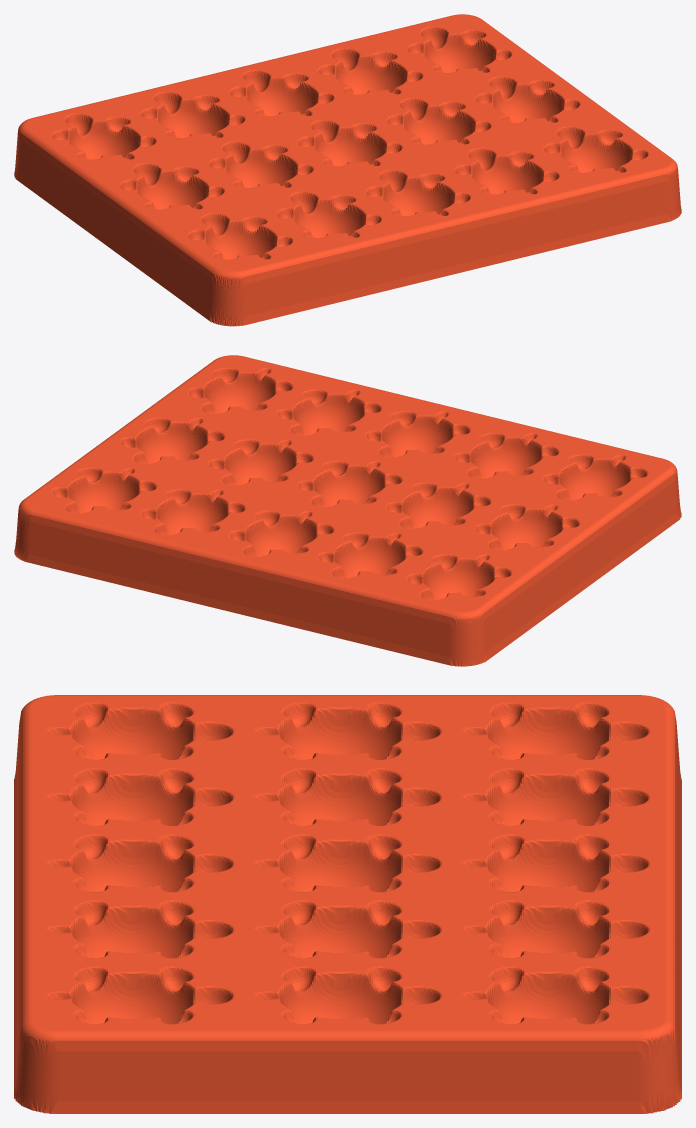
The model's file is mold.glb.
The picture shows the model from 3 angles, top to bottom: view 1: azimuth 30°, elevation 25°; view 2: azimuth 150°, elevation 25°; view 3: azimuth 270°, elevation 25°; orthographic projection. The views are drawn at different scales.
Visible parts, largest first — view 1: geometry_0; view 2: geometry_0; view 3: geometry_0.
Boxes of the visible parts, x1,y1,x2,y2 form: geometry_0: (14,14,681,326); geometry_0: (14,355,681,666); geometry_0: (14,695,681,1113).
Size of the model in its own units: 0.1721 by 0.0175 by 0.1392.
